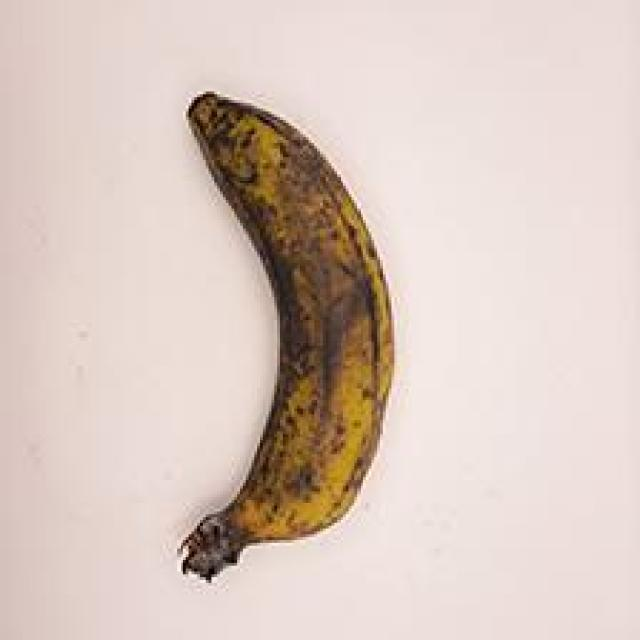Overripe: (101, 80, 431, 604)
